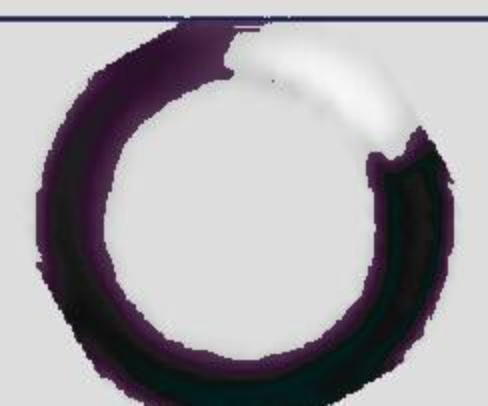ProgressBar: (1, 1, 487, 405)
